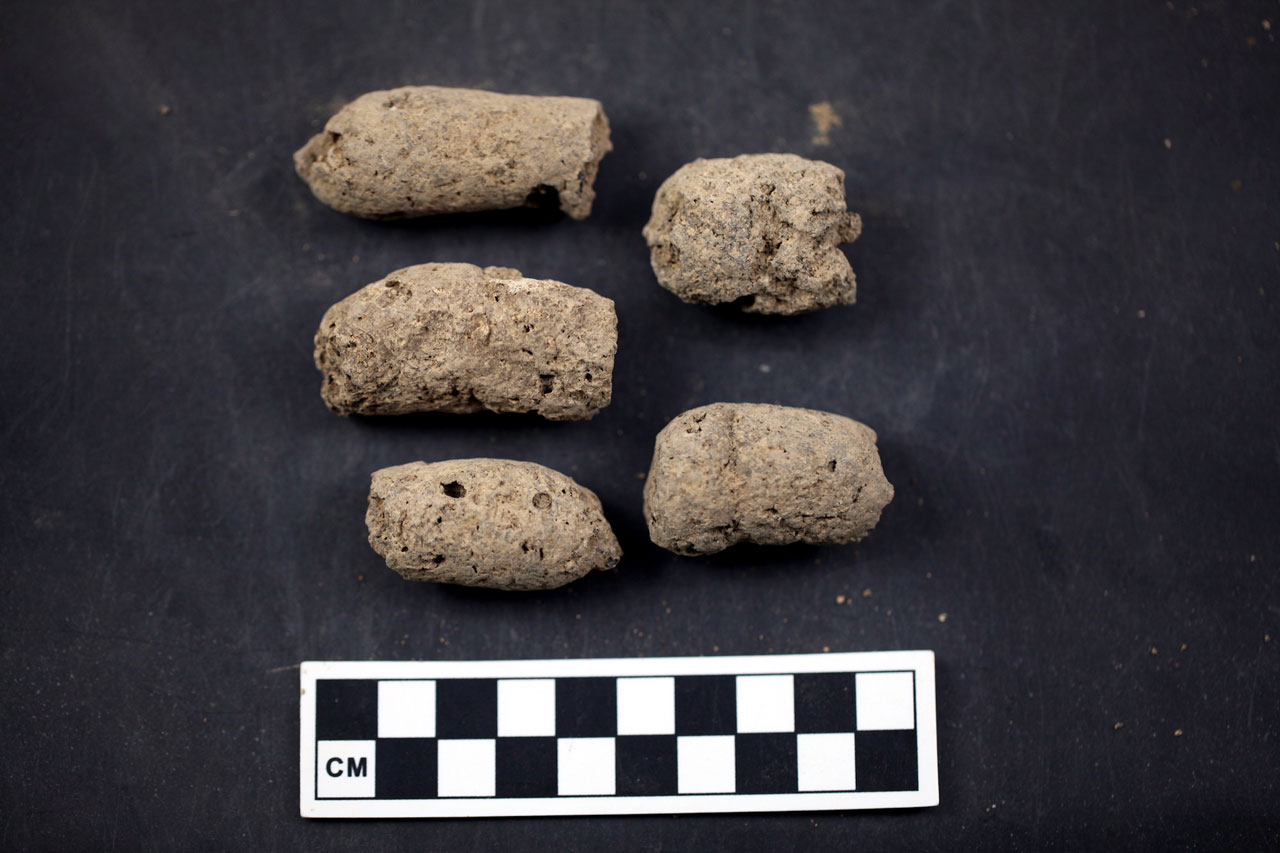Dog: (304, 83, 896, 582)
